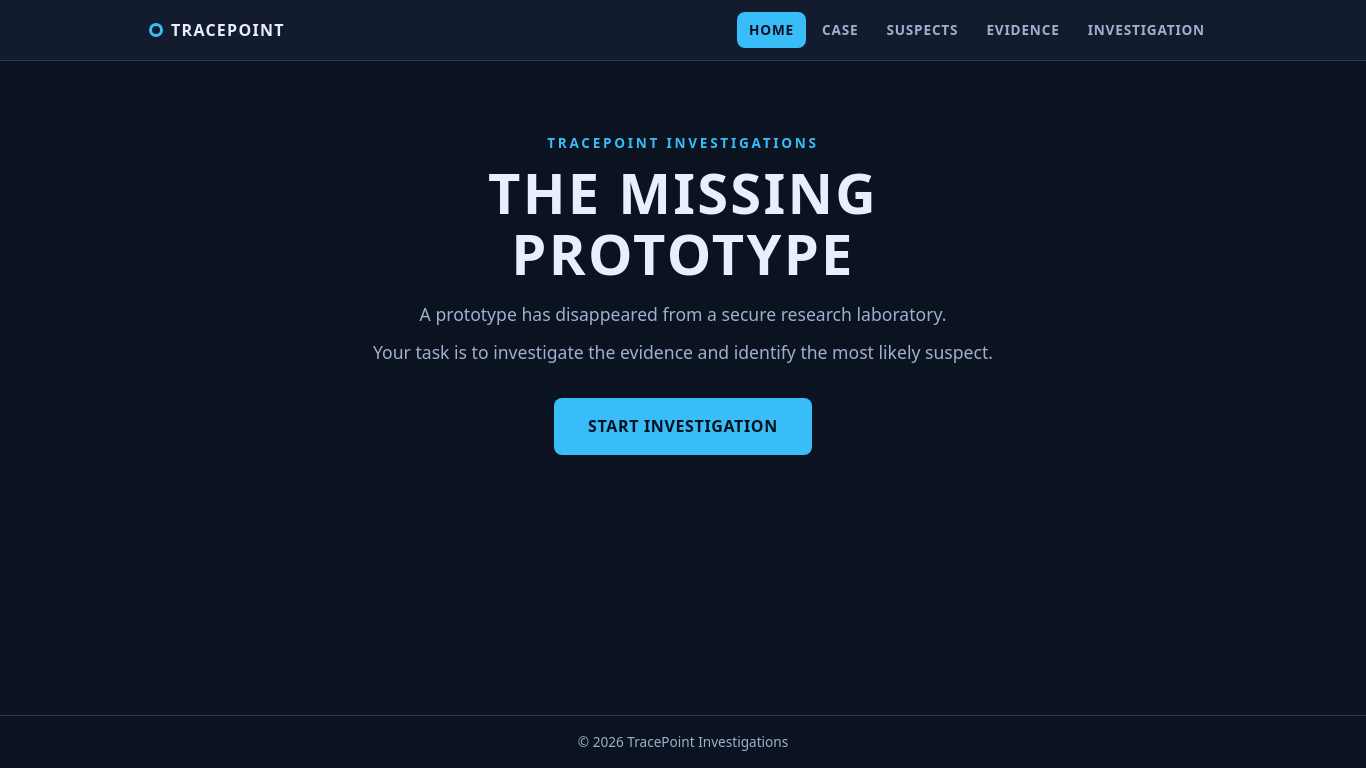
Test case: Navigation › links to all five pages and navigates without typing URLs
Expected: the link "Home" is shown, [737, 12, 806, 48]
Expected: the link "Case" is shown, [822, 20, 858, 39]
Click the link "Evidence": click(1023, 30) [986, 20, 1060, 39]
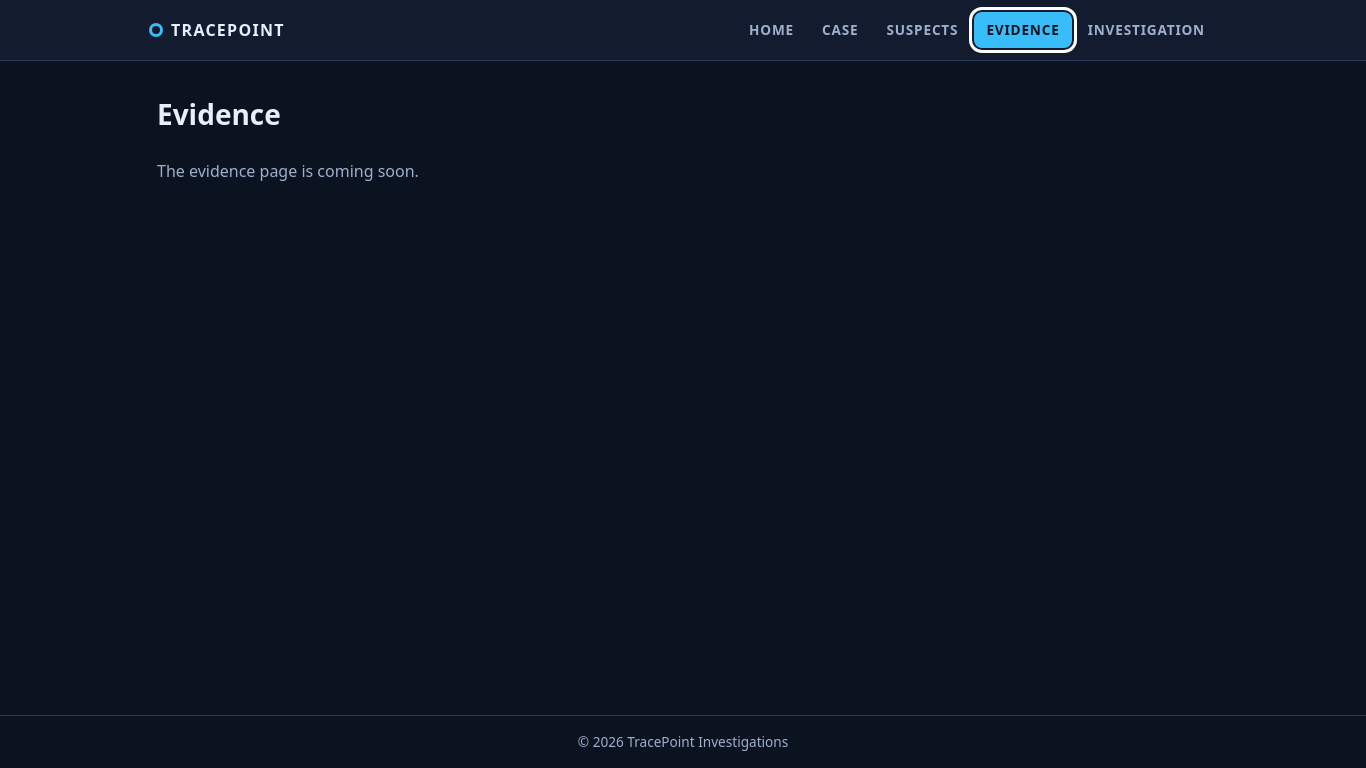
Expected: the heading "Evidence" is shown, [157, 95, 281, 133]
Click the link "Investigation": click(1146, 30) [1088, 20, 1205, 39]
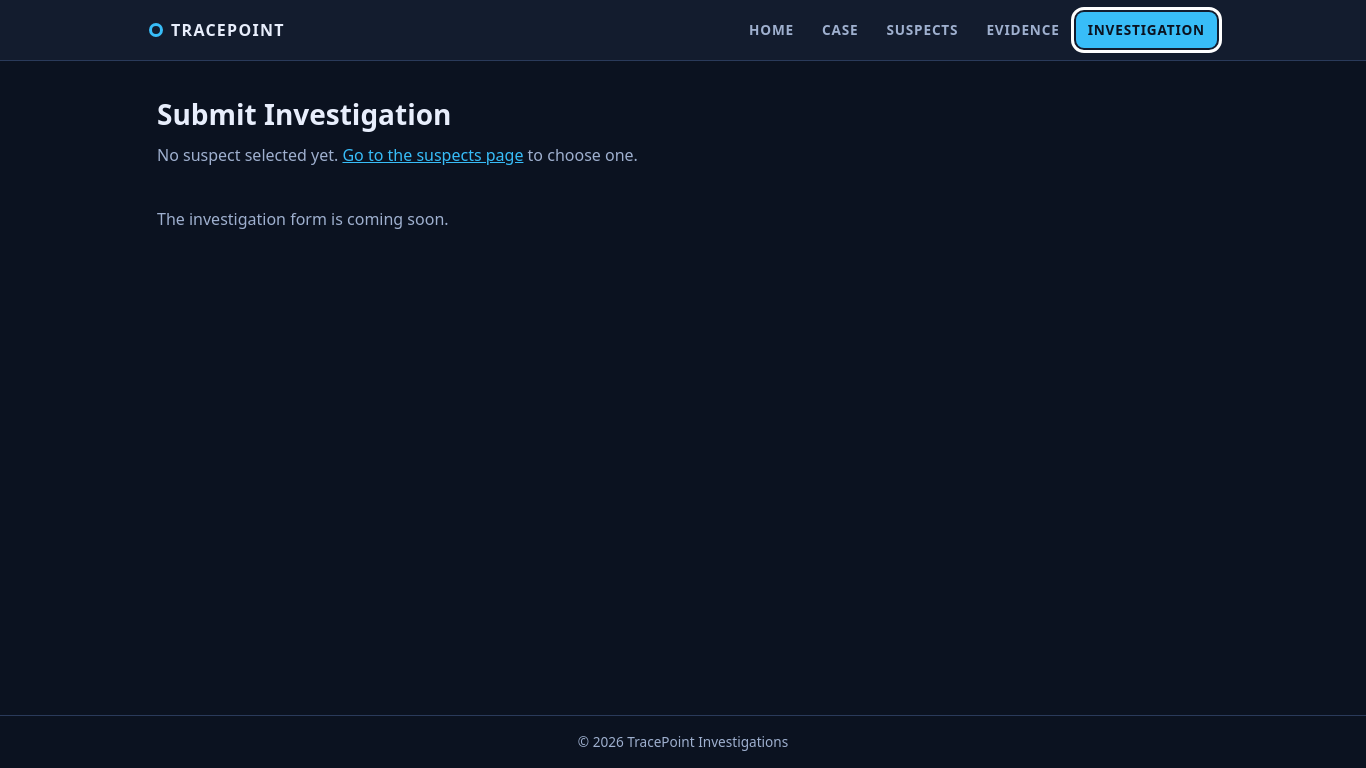
Expected: the heading "Submit Investigation" is shown, [157, 95, 452, 133]
